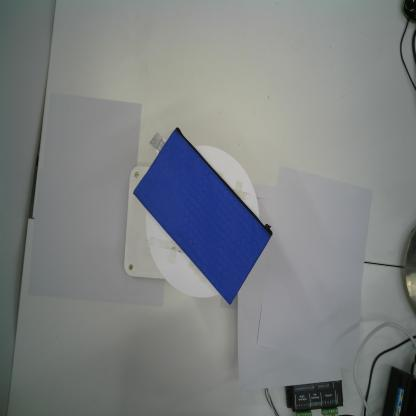Stationery: (131, 124, 274, 307)
